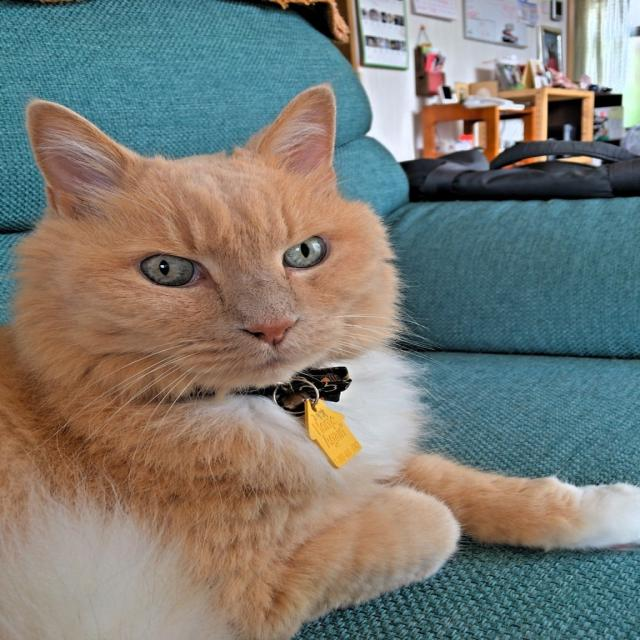Left_ear: (252, 82, 360, 188)
Left_eye: (277, 232, 331, 270)
Nouse: (242, 317, 298, 346)
Right_ear: (25, 99, 135, 219)
Right_eye: (138, 248, 204, 291)
